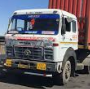truck: (4, 7, 82, 84)
